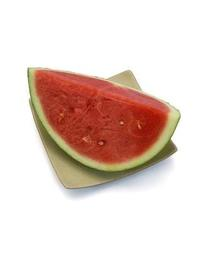watermelon: (26, 64, 183, 174)
